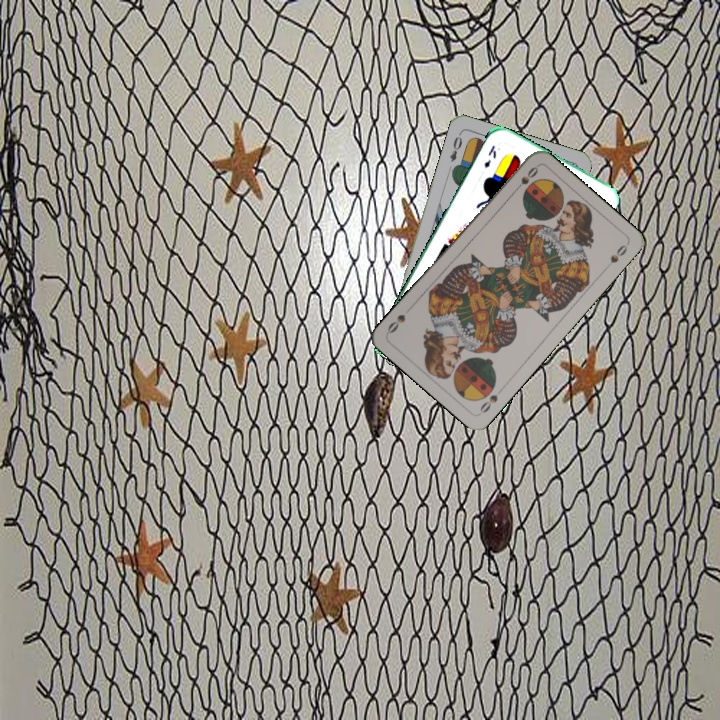EK: (480, 141, 499, 171)
EO: (446, 129, 465, 164)
SO: (509, 162, 541, 196), (476, 383, 507, 416)
